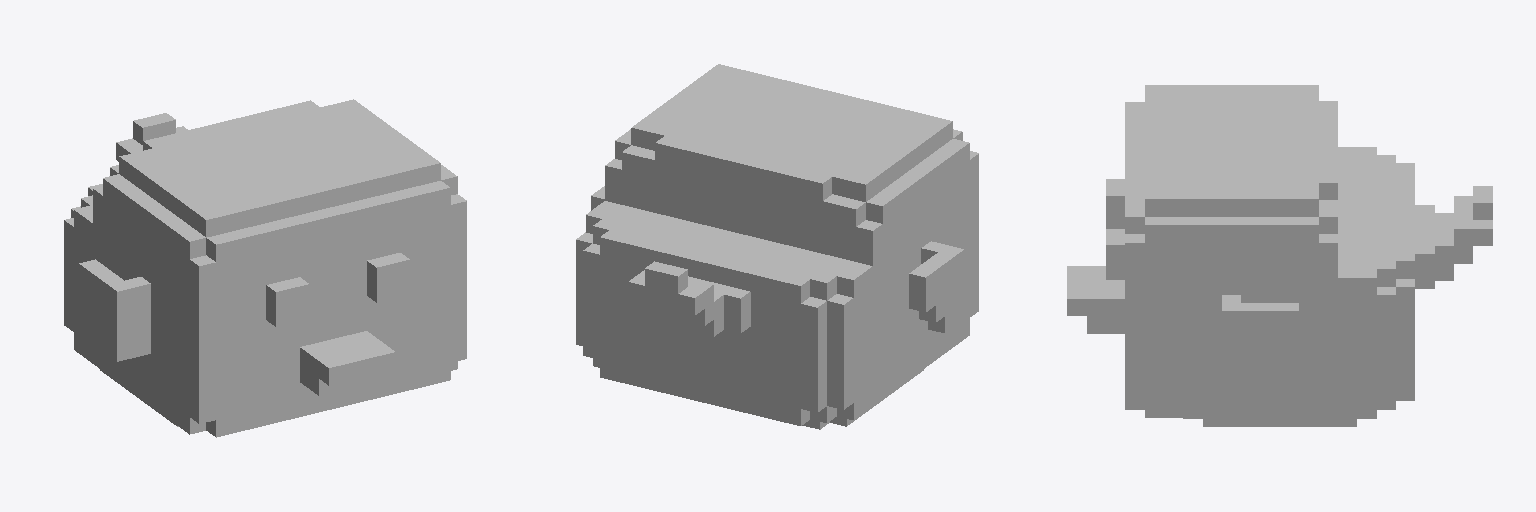
The model's file is bird one.obj.
The picture shows the model from 3 angles: view 1: azimuth 30°, elevation 25°; view 2: azimuth 150°, elevation 25°; view 3: azimuth 270°, elevation 25°; orthographic projection.
Parts seen in each view (by area): view 1: object 1; view 2: object 1; view 3: object 1.
Part boxes in pixels (bbox=[...]): object 1: bbox=[64, 99, 466, 437]; object 1: bbox=[576, 64, 978, 429]; object 1: bbox=[1067, 85, 1492, 426].
Size of the model in its own units: 2 by 1.3 by 2.2.